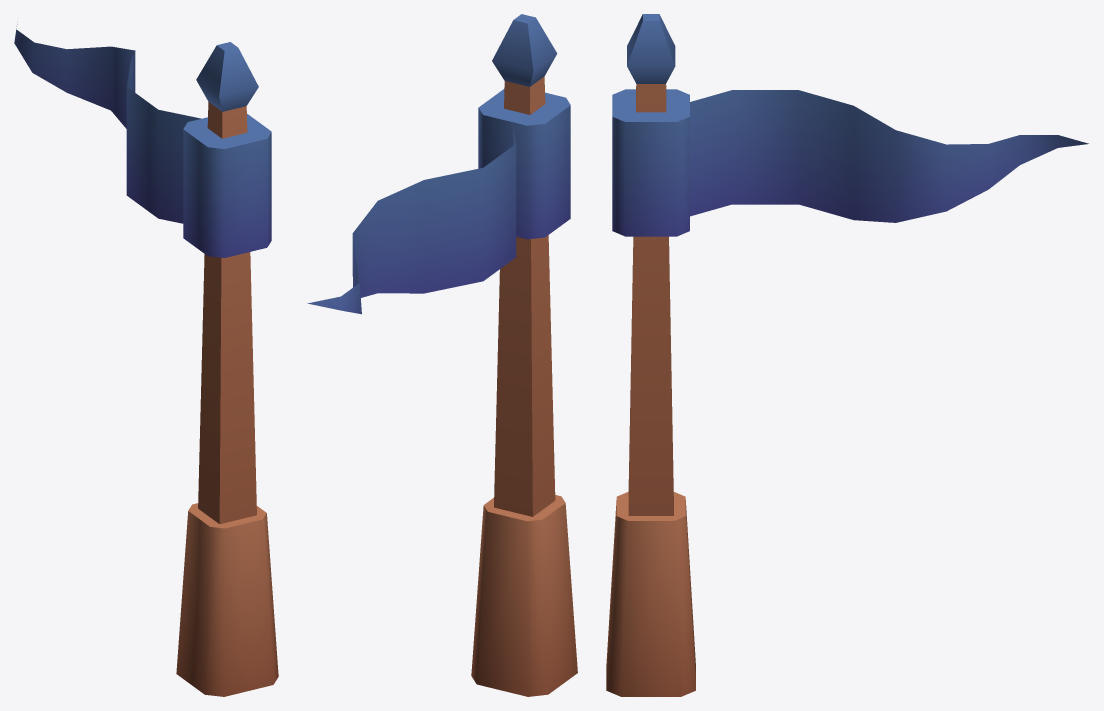
The model's file is flag-pennant.glb.
3 renders of one model, left to right at view 1: azimuth 30°, elevation 25°; view 2: azimuth 150°, elevation 25°; view 3: azimuth 270°, elevation 25°, orthographic. The views are drawn at different scales.
Parts seen in each view (by area): view 1: flag-pennant; view 2: flag-pennant; view 3: flag-pennant.
Part boxes in pixels (x1,y1,x2,y2): flag-pennant: (14, 22, 278, 696); flag-pennant: (307, 14, 577, 696); flag-pennant: (606, 14, 1088, 696).
Size of the model in its own units: 0.1064 by 0.8656 by 0.5739.
